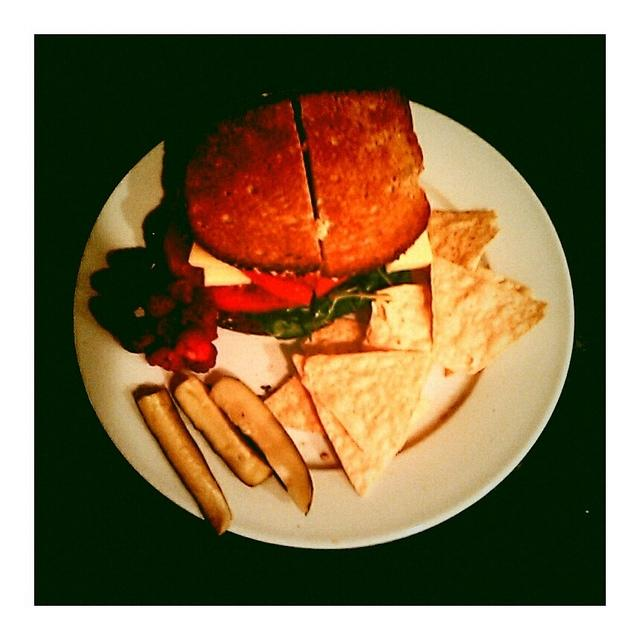tomato: (240, 267, 352, 306), (202, 282, 302, 313)
